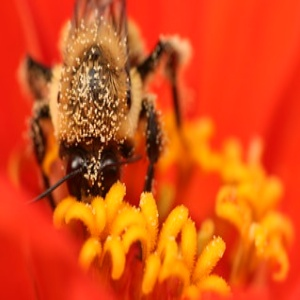bee: (22, 3, 190, 231)
